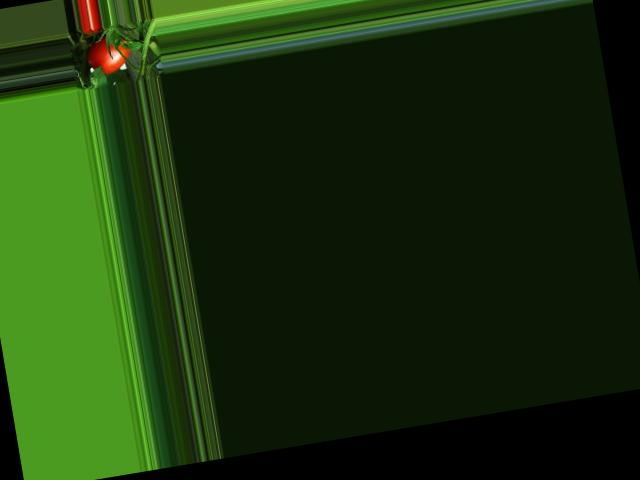tomato: (83, 33, 132, 76)
